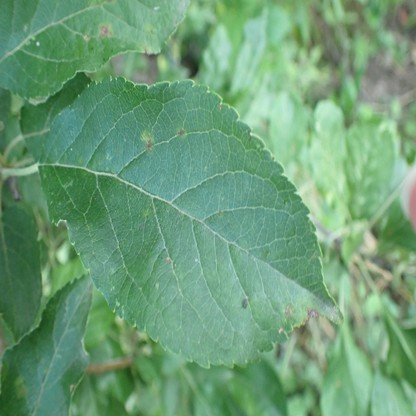scab: (297, 294, 320, 327), (138, 21, 157, 54), (14, 375, 30, 399), (141, 130, 154, 153), (98, 21, 112, 42), (282, 304, 296, 319), (176, 125, 186, 140)
